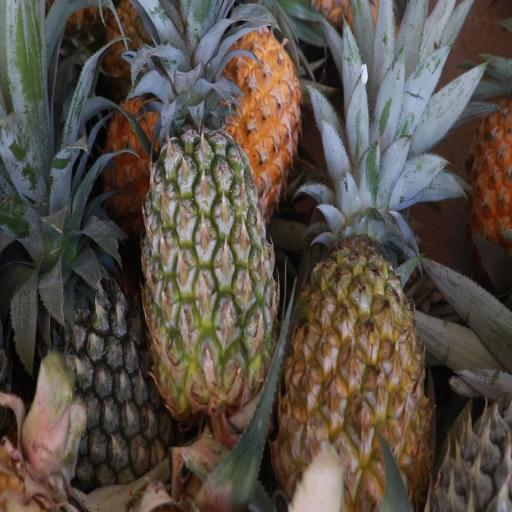------------------------------: (144, 116, 274, 407)
Pineapple - v8 v1: (278, 179, 428, 512), (140, 9, 300, 171)
